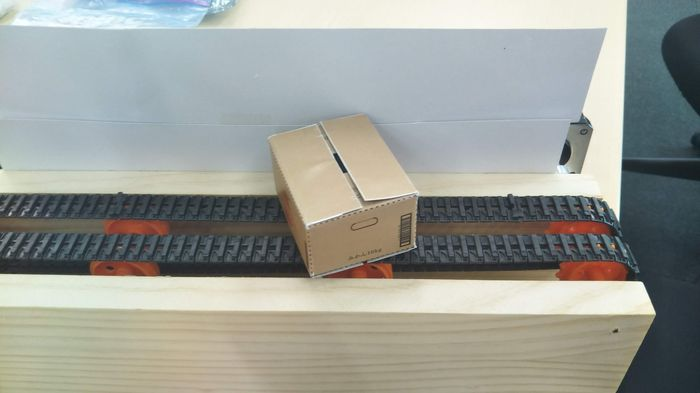box1: (263, 109, 422, 281)
